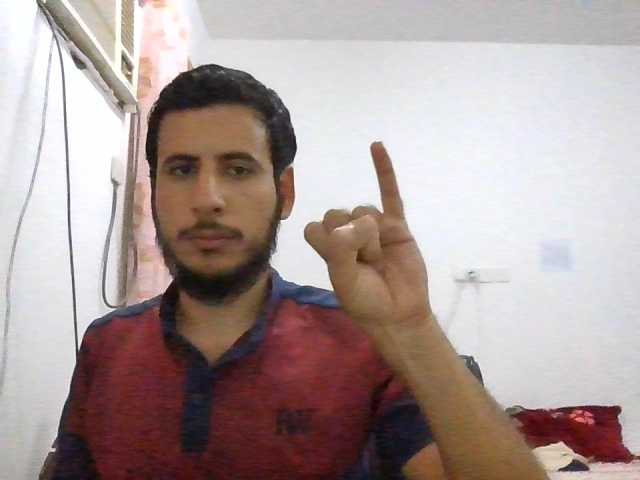One: (304, 142, 429, 321)
